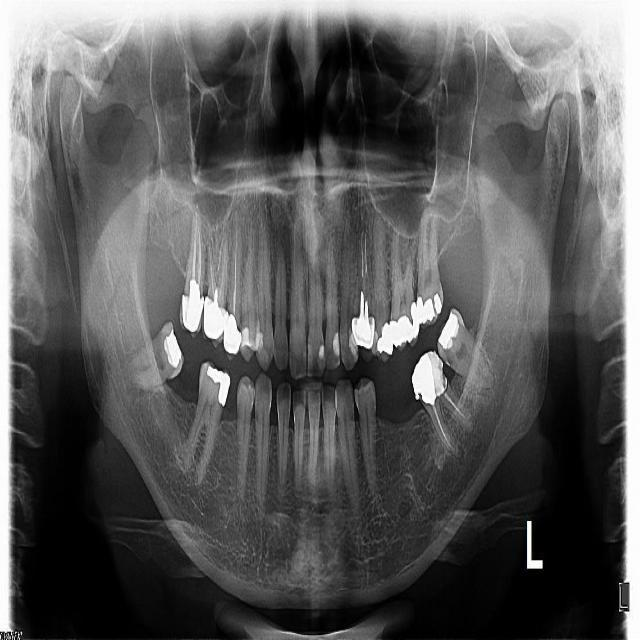71: (355, 289, 372, 342), (212, 289, 220, 310)
74: (430, 403, 455, 452), (443, 392, 466, 421), (217, 243, 228, 302), (232, 218, 237, 315), (192, 206, 198, 280), (196, 217, 202, 288), (209, 246, 215, 297), (217, 236, 223, 271), (363, 233, 368, 272), (361, 233, 363, 277)
NucleOSS Implant: (385, 300, 423, 348), (205, 361, 240, 409), (409, 353, 438, 408), (158, 328, 185, 369), (436, 312, 464, 351), (187, 276, 203, 324), (415, 295, 436, 327), (377, 323, 393, 355), (430, 294, 444, 313)
Sterngold Implant: (442, 353, 454, 364)
Straumann Implant: (234, 325, 265, 365), (251, 331, 271, 369), (344, 330, 359, 358), (318, 343, 326, 372), (331, 332, 339, 355)
Zimmer Implant: (196, 298, 230, 348), (349, 313, 379, 364), (176, 293, 205, 336), (223, 313, 242, 362)
